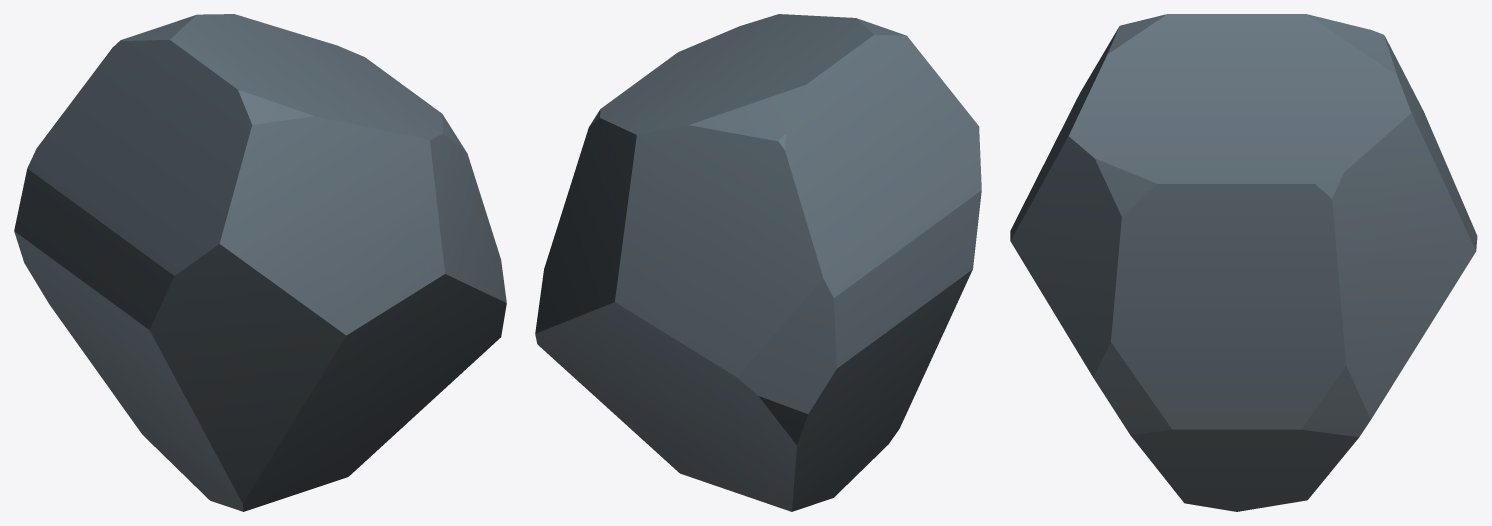
Rendered from SM_Nature_Rock_01.fbx.
3 renders of one model, left to right at view 1: azimuth 30°, elevation 25°; view 2: azimuth 150°, elevation 25°; view 3: azimuth 270°, elevation 25°, orthographic.
Parts seen in each view (by area): view 1: SM_Nature_Rock_01_LOD0; view 2: SM_Nature_Rock_01_LOD0; view 3: SM_Nature_Rock_01_LOD0.
Part boxes in pixels (box(x1,y1,x2,y2)): SM_Nature_Rock_01_LOD0: box(14, 14, 506, 511); SM_Nature_Rock_01_LOD0: box(535, 14, 981, 511); SM_Nature_Rock_01_LOD0: box(1010, 14, 1477, 511).
Bounding box in the file's own units: 97.08 × 117 × 111.
